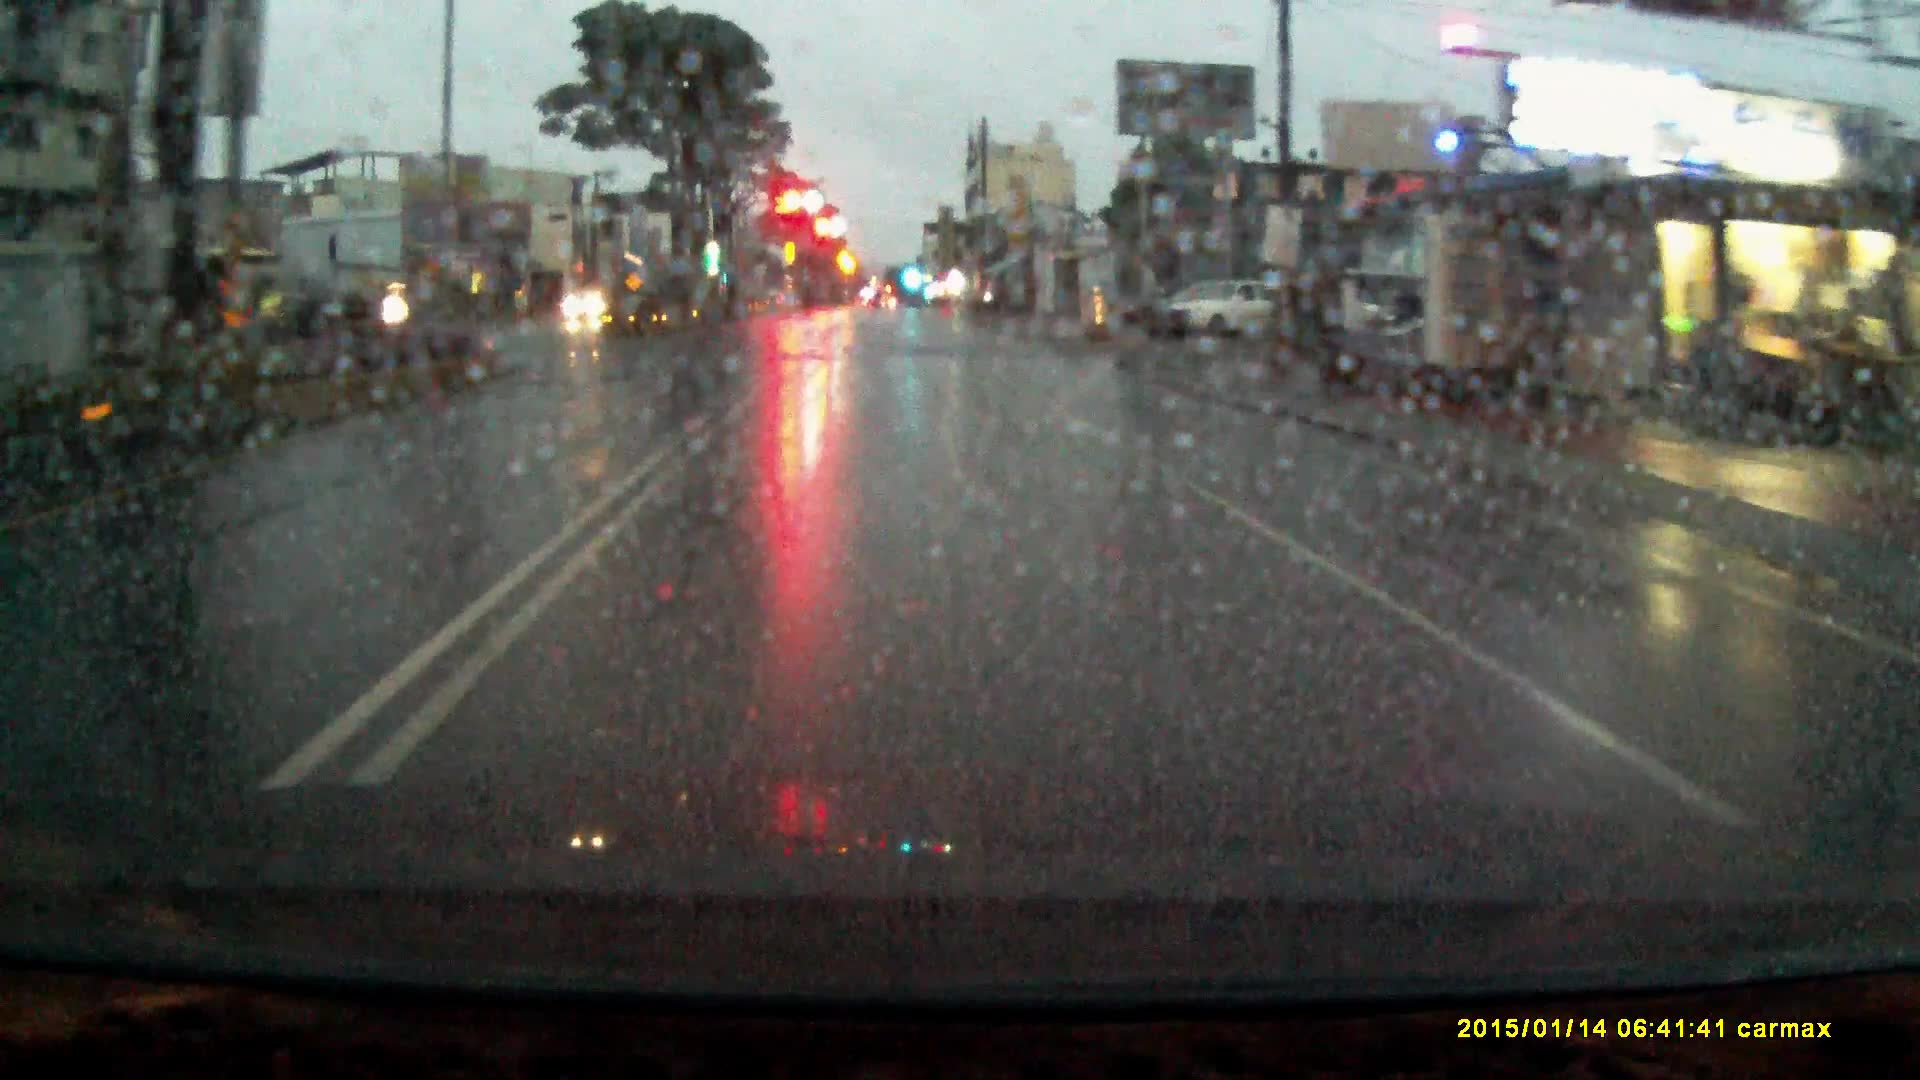vehicle: (1167, 284, 1304, 347), (564, 295, 615, 331)
